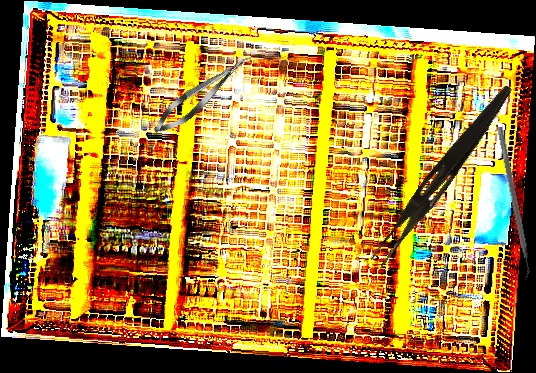Dressing Forceps: (369, 77, 516, 273)
Micro Scissor: (147, 47, 258, 141)
Spatula Surgical: (490, 126, 535, 281)
